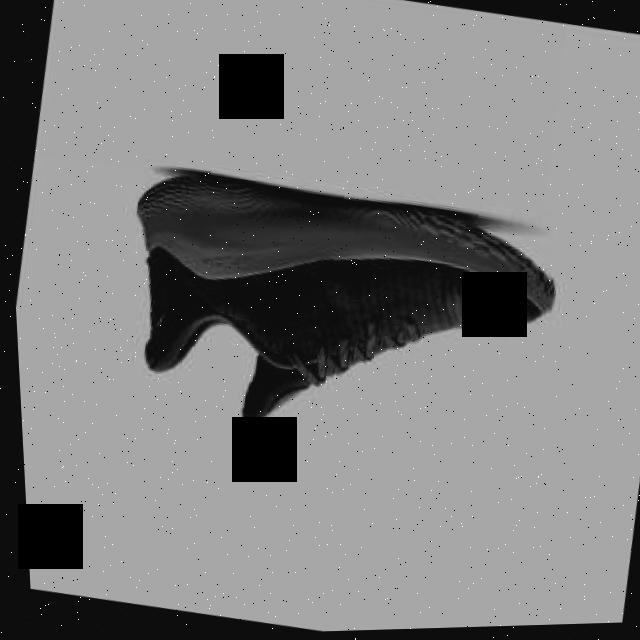shoe: (98, 152, 567, 477)
